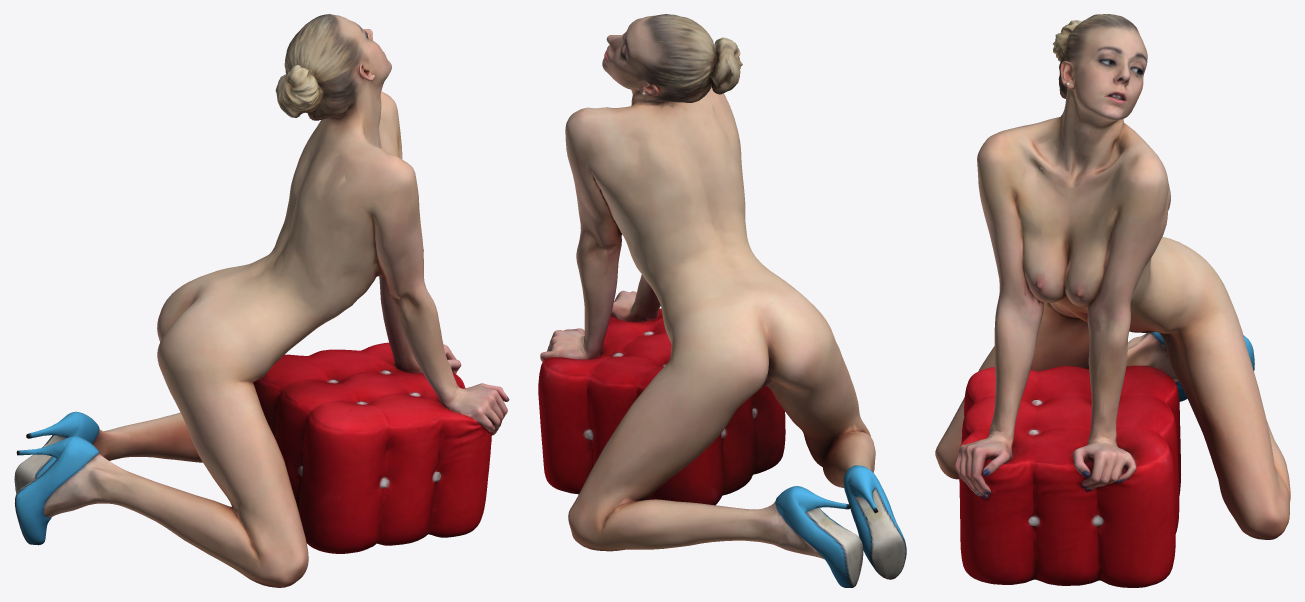
The model's file is nsC001xb.glb.
The picture shows the model from 3 angles, left to right: view 1: azimuth 30°, elevation 25°; view 2: azimuth 150°, elevation 25°; view 3: azimuth 270°, elevation 25°; orthographic projection. The views are drawn at different scales.
Parts seen in each view (by area): view 1: Atlas2; view 2: Atlas2; view 3: Atlas2.
Boxes of the visible parts, bbox=[...] form: Atlas2: bbox=[14, 14, 509, 587]; Atlas2: bbox=[538, 14, 906, 587]; Atlas2: bbox=[935, 14, 1290, 587].
Bounding box in the file's own units: 1.07 × 1.23 × 0.7666.
Materials: 1 (1 with a texture image).
